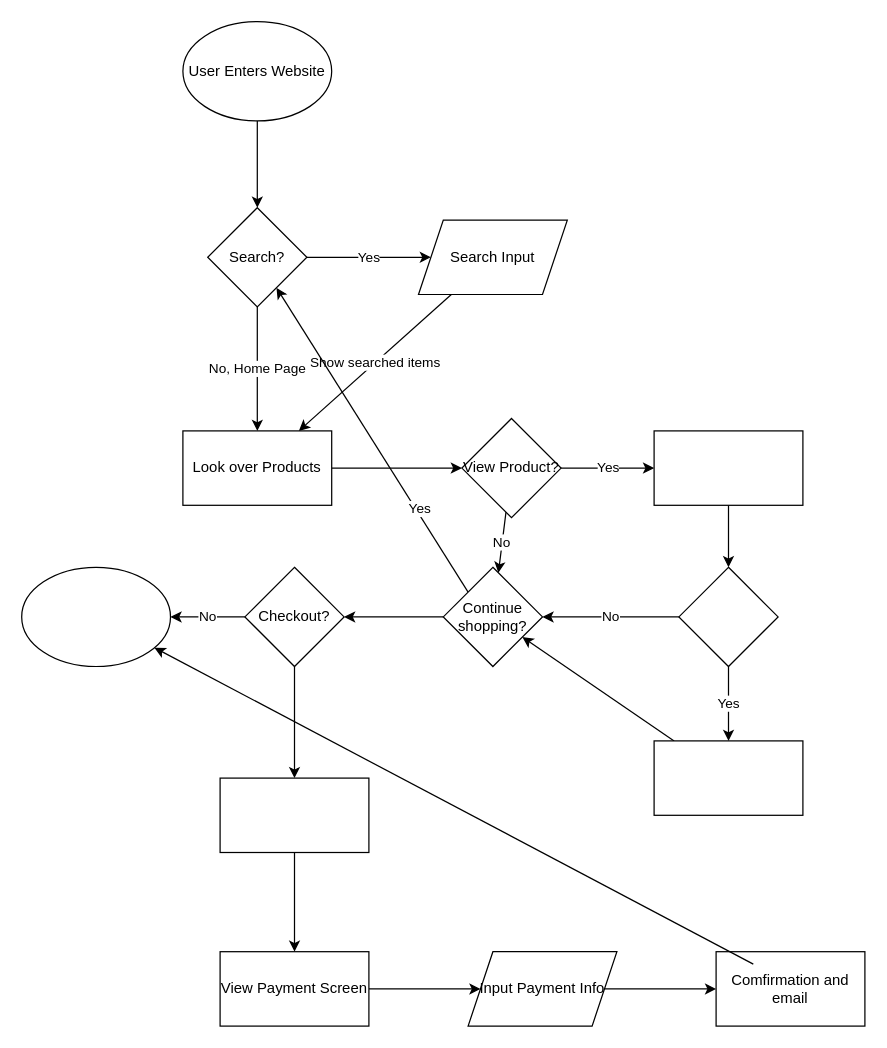
Image size: 887x1048. Some labels were removed from this diagram. The shapes that lost their labels are listed below. From the top down, each one's centre as x and y in pixels, then its label:
point 728,467: Show Webpage
point 95,616: Leave Website
point 728,616: Add to Cart?
point 728,777: Cart Notification
point 294,814: View Cart Screen
